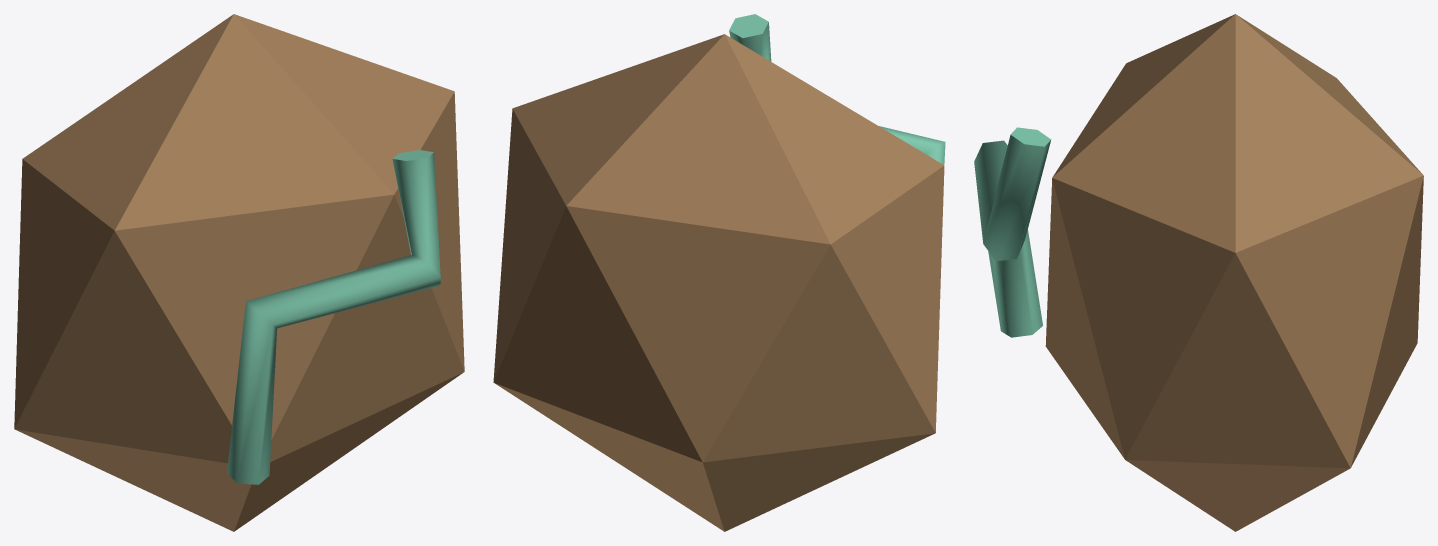
File: golem_sandstone.fbx
3 views of the same model, side by side, from view 1: azimuth 30°, elevation 25°; view 2: azimuth 150°, elevation 25°; view 3: azimuth 270°, elevation 25° (orthographic). The views are drawn at different scales.
Visible parts, largest first — view 1: golem_sandstone; view 2: golem_sandstone; view 3: golem_sandstone.
Boxes of the visible parts, x1,y1,x2,y2 form: golem_sandstone: (14, 14, 464, 531); golem_sandstone: (493, 14, 945, 531); golem_sandstone: (974, 14, 1423, 531).
Size of the model in its own units: 0.5715 by 0.6423 by 0.5054.
